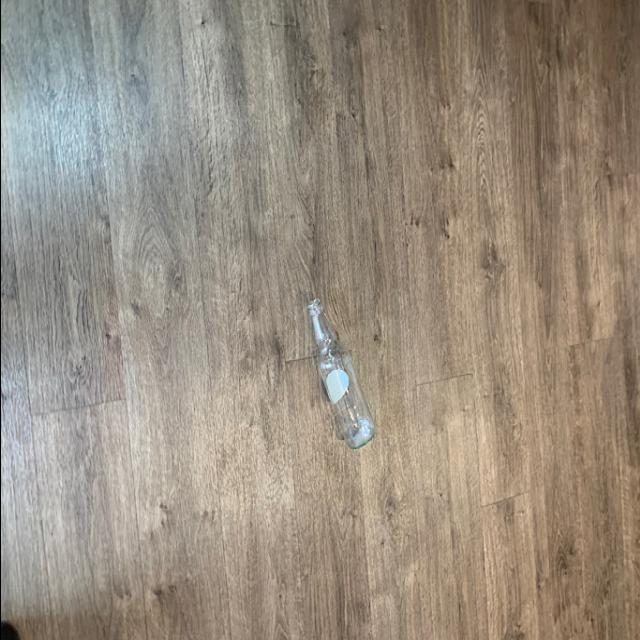Glass Bottle: (300, 291, 378, 449)
